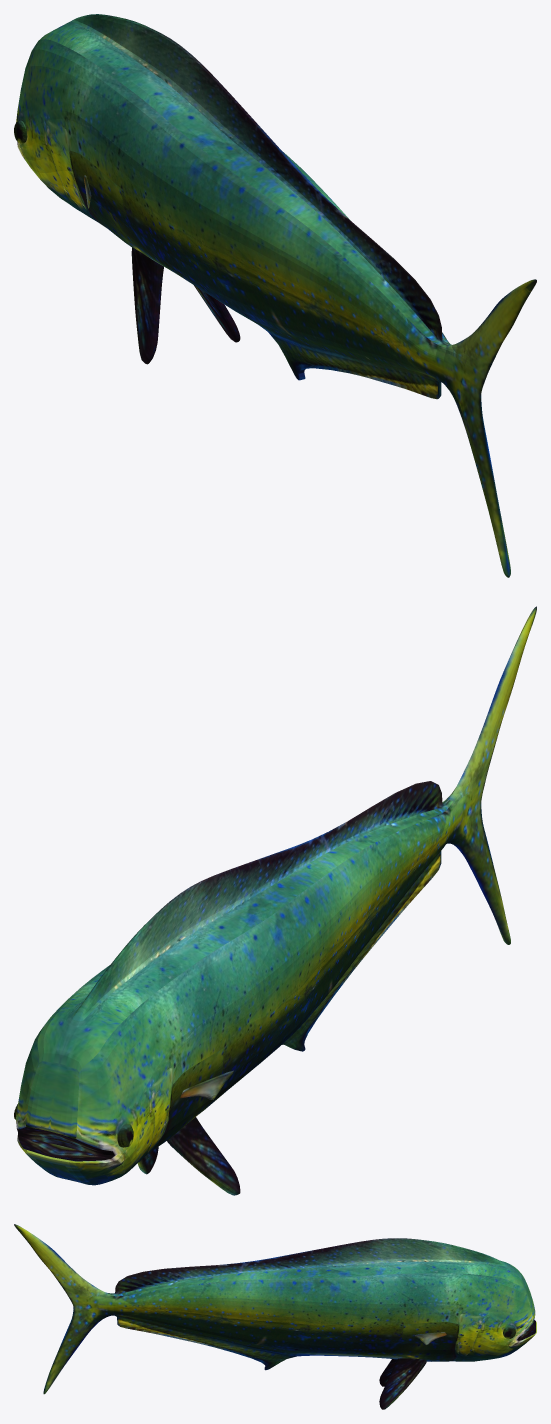
File: mahi-mahi_male_static.glb
3 views of the same model, one above another, from view 1: azimuth 30°, elevation 25°; view 2: azimuth 150°, elevation 25°; view 3: azimuth 270°, elevation 25° (orthographic). The views are drawn at different scales.
Parts seen in each view (by area): view 1: mahi-combined; view 2: mahi-combined; view 3: mahi-combined.
Part boxes in pixels (bbox=[...]): mahi-combined: bbox=[14, 14, 536, 577]; mahi-combined: bbox=[14, 606, 536, 1195]; mahi-combined: bbox=[14, 1224, 536, 1409].
Bounding box in the file's own units: 1.66 × 3.59 × 9.79.
1 material, 1 textured.
